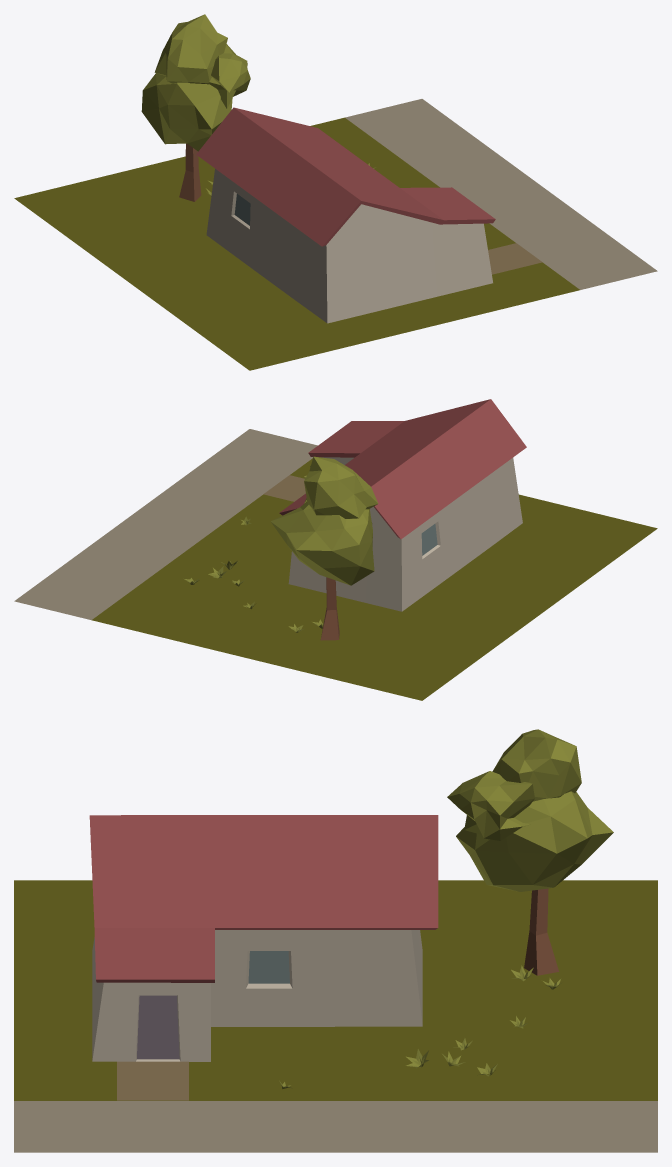
The model's file is Casa Comum 01.fbx.
3 renders of one model, top to bottom at view 1: azimuth 30°, elevation 25°; view 2: azimuth 150°, elevation 25°; view 3: azimuth 270°, elevation 25°, orthographic. The views are drawn at different scales.
Parts seen in each view (by area): view 1: Casa Comum 01; view 2: Casa Comum 01; view 3: Casa Comum 01.
Part boxes in pixels (x1,y1,x2,y2): Casa Comum 01: [14, 14, 657, 370]; Casa Comum 01: [14, 399, 657, 700]; Casa Comum 01: [14, 729, 657, 1152].
Bounding box in the file's own units: 200 × 83.9 × 200.
